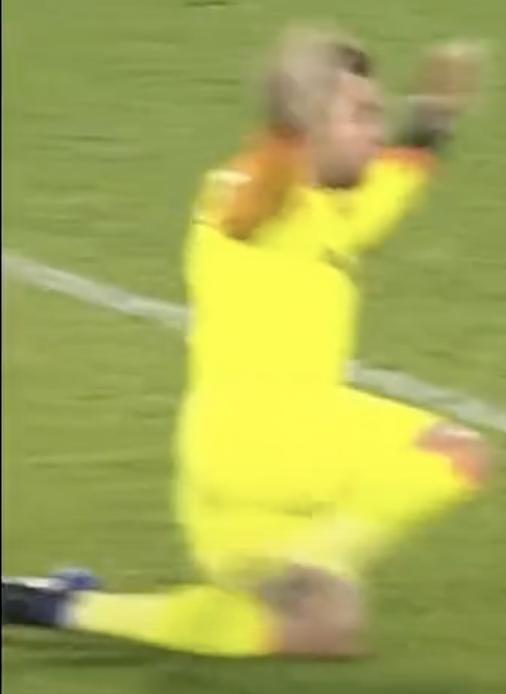goalkeeper: (2, 6, 506, 694)
